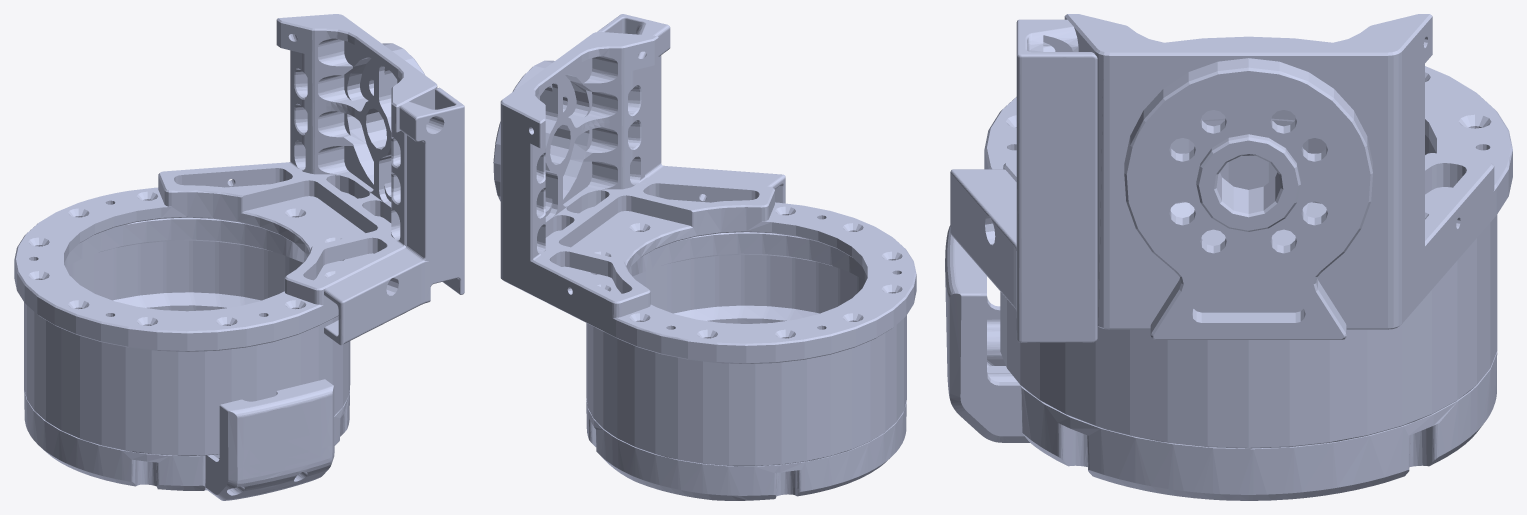
The model's file is SF_TRON1_abad_R_Link_visuals_abad_R_Link_mesh.obj.
The picture shows the model from 3 angles, left to right: view 1: azimuth 30°, elevation 25°; view 2: azimuth 150°, elevation 25°; view 3: azimuth 270°, elevation 25°; orthographic projection. The views are drawn at different scales.
Bounding box in the file's own units: 0.1319 × 0.1165 × 0.1139.
